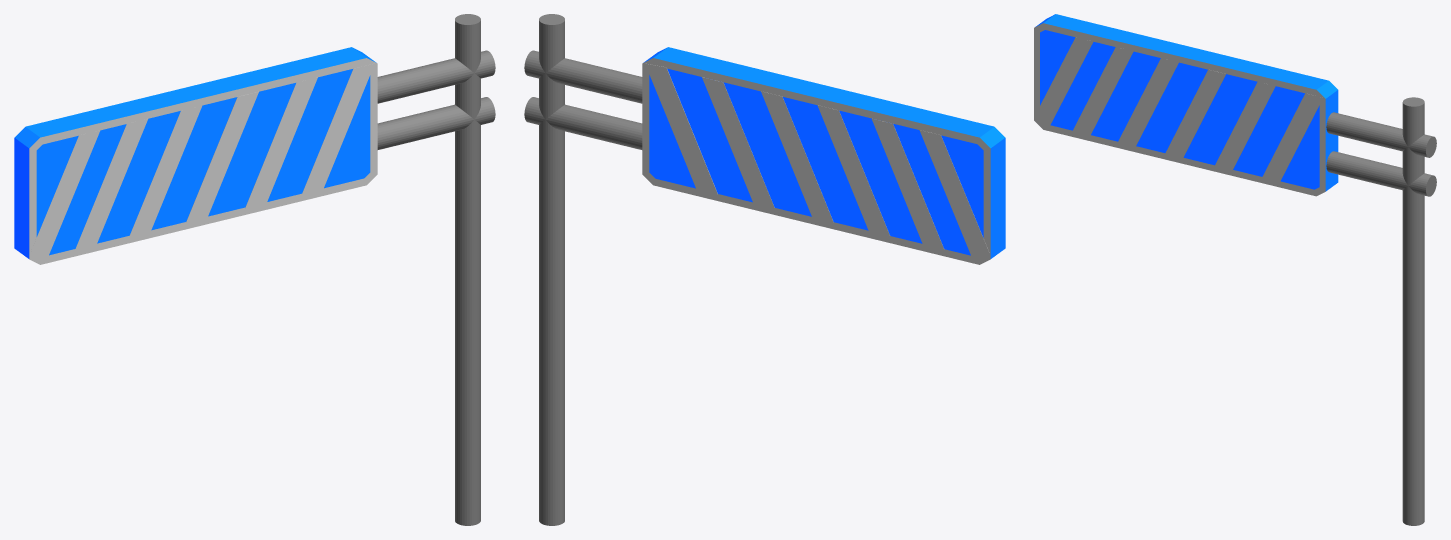
File: Levha 1.fbx
3 renders of one model, left to right at view 1: azimuth 30°, elevation 25°; view 2: azimuth 150°, elevation 25°; view 3: azimuth 330°, elevation 25°, orthographic. The views are drawn at different scales.
Parts seen in each view (by area): view 1: Levha; view 2: Levha; view 3: Levha.
Boxes of the visible parts, box(x1,y1,x2,y2) form: Levha: box(14, 14, 495, 525); Levha: box(524, 14, 1005, 525); Levha: box(1034, 14, 1436, 525).
Bounding box in the file's own units: 553 × 567 × 31.27.
